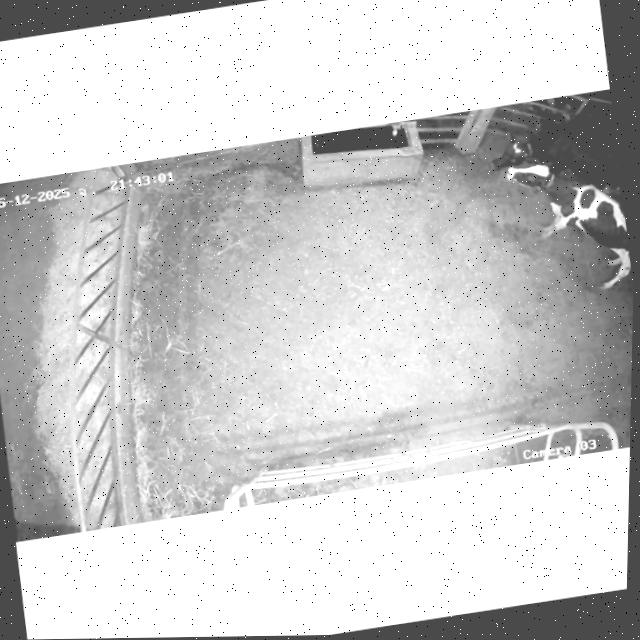stand: (499, 148, 637, 308), (482, 105, 623, 208)
